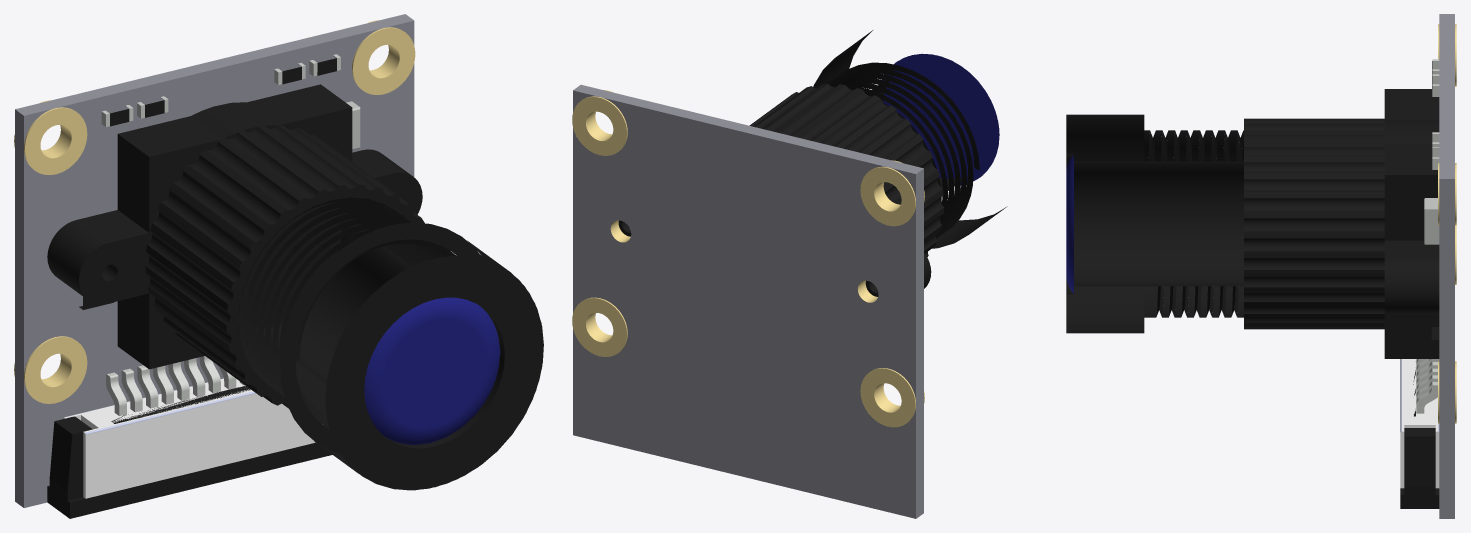
The model's file is Camera Module part.fbx.
The picture shows the model from 3 angles, left to right: view 1: azimuth 30°, elevation 25°; view 2: azimuth 150°, elevation 25°; view 3: azimuth 270°, elevation 25°; orthographic projection. The views are drawn at different scales.
Visible parts, largest first — view 1: Camera Block, PCB 1, Camera end, 15 Pin Ribbon Block, Lenz, Ribbon Clamp; view 2: PCB 1, Camera Block, Camera end, Lenz; view 3: Camera Block, Camera end, PCB 1, 15 Pin Ribbon Block, Ribbon Clamp, Lenz.
Boxes of the visible parts, x1,y1,x2,y2 form: Camera Block: (47,84,424,408); PCB 1: (14,14,415,507); Camera end: (238,197,543,490); 15 Pin Ribbon Block: (63,356,315,498); Lenz: (364,297,500,444); Ribbon Clamp: (47,385,332,518); PCB 1: (572,84,924,518); Camera Block: (618,83,944,296); Camera end: (813,30,1007,248); Lenz: (882,53,999,185); Camera Block: (1244,89,1439,358); Camera end: (1066,114,1243,333); PCB 1: (1424,14,1456,518); 15 Pin Ribbon Block: (1400,359,1439,488); Ribbon Clamp: (1400,370,1439,508); Lenz: (1066,154,1073,293).
Size of the model in its own units: 2.5 by 2.4 by 2.5.
